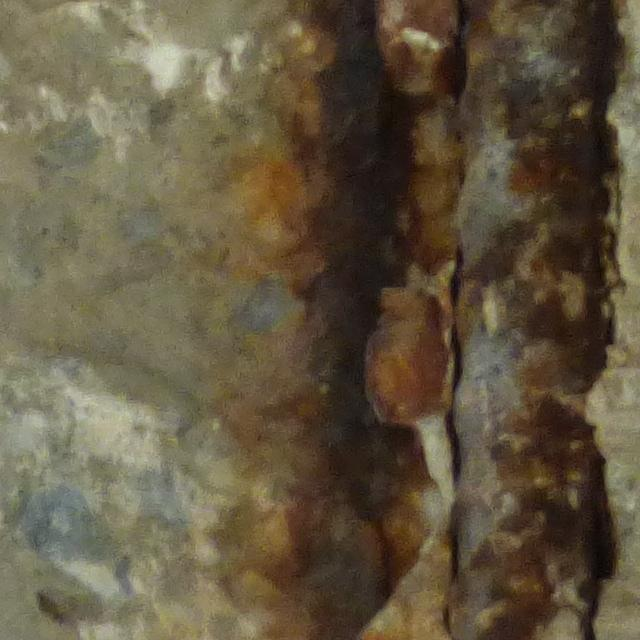Rust: (291, 5, 445, 638), (490, 2, 621, 636)
